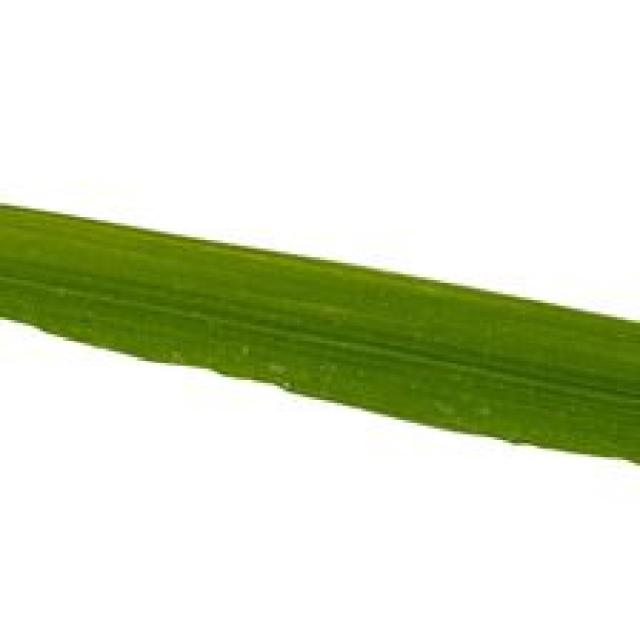Rice___Healthy_Rice_Plant: (1, 198, 637, 468)
